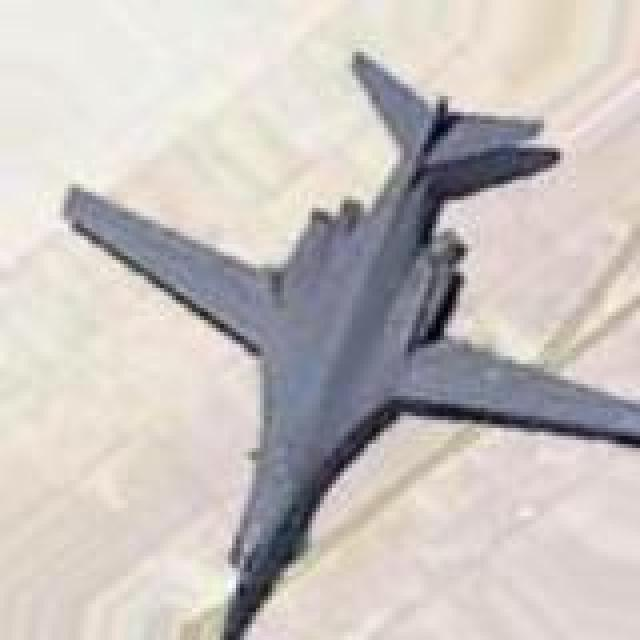B-1_TopDown: (56, 44, 636, 636)
